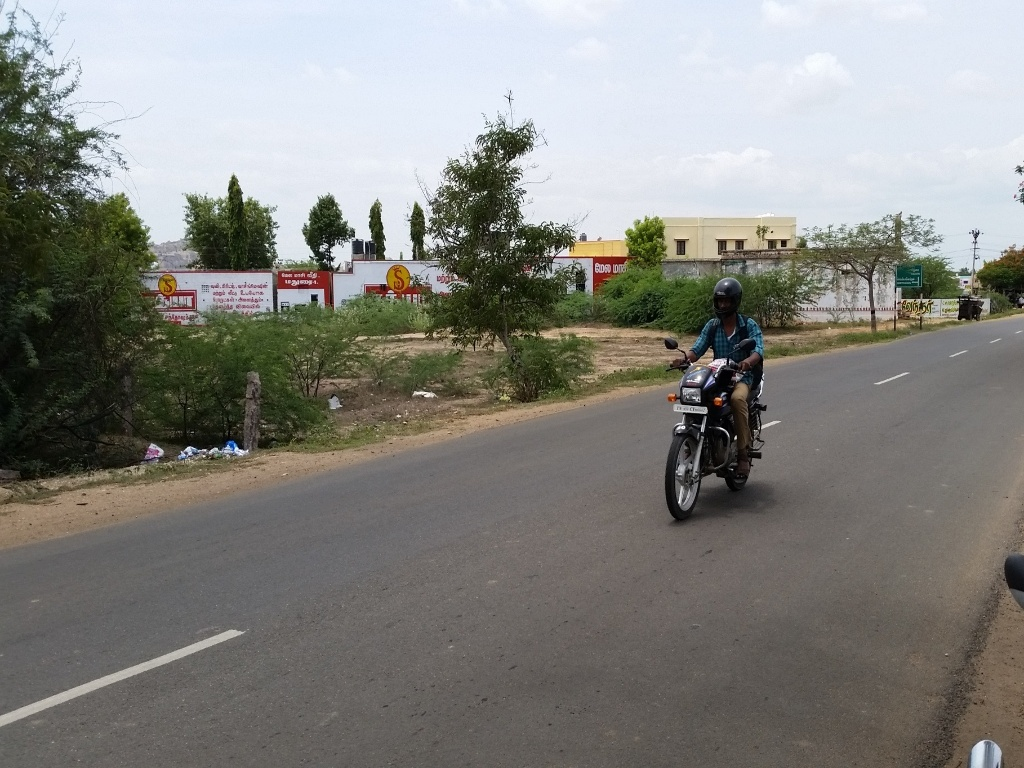biker: (641, 251, 807, 536)
helmet: (708, 270, 750, 336)
